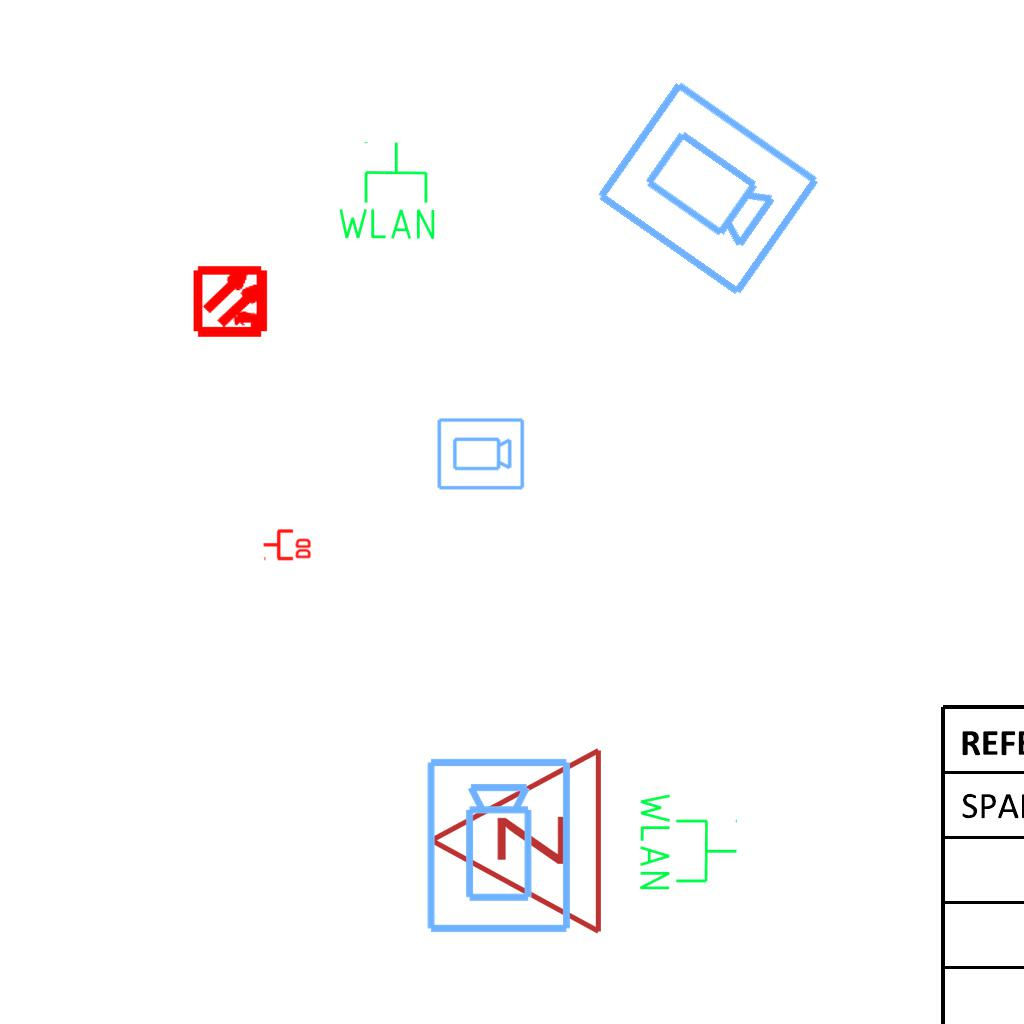Datenanschluss_zweifach: (262, 527, 313, 561)
KFO_Kamera_mit_Festobjektiv: (588, 73, 826, 305), (423, 755, 577, 937), (435, 416, 526, 493)
OT_Multisensormelder_(Kombination_RMO_WMD): (176, 245, 289, 358)
WLAN: (636, 789, 740, 894), (334, 139, 439, 243)
Zimmersignalleuchte: (416, 745, 616, 941)
